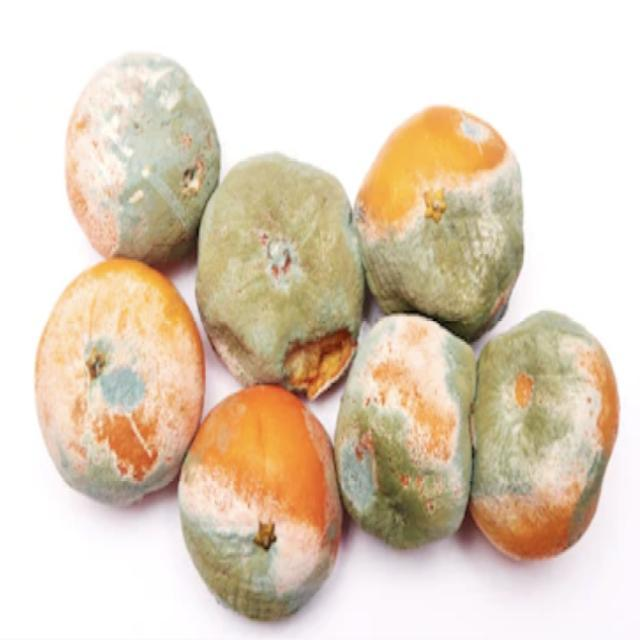sangat-busuk: (196, 153, 364, 398), (354, 108, 522, 340), (178, 385, 342, 620), (470, 311, 617, 559), (335, 315, 475, 549), (66, 53, 220, 264), (385, 458, 398, 471)
sedikit-busuk: (36, 259, 205, 504)
